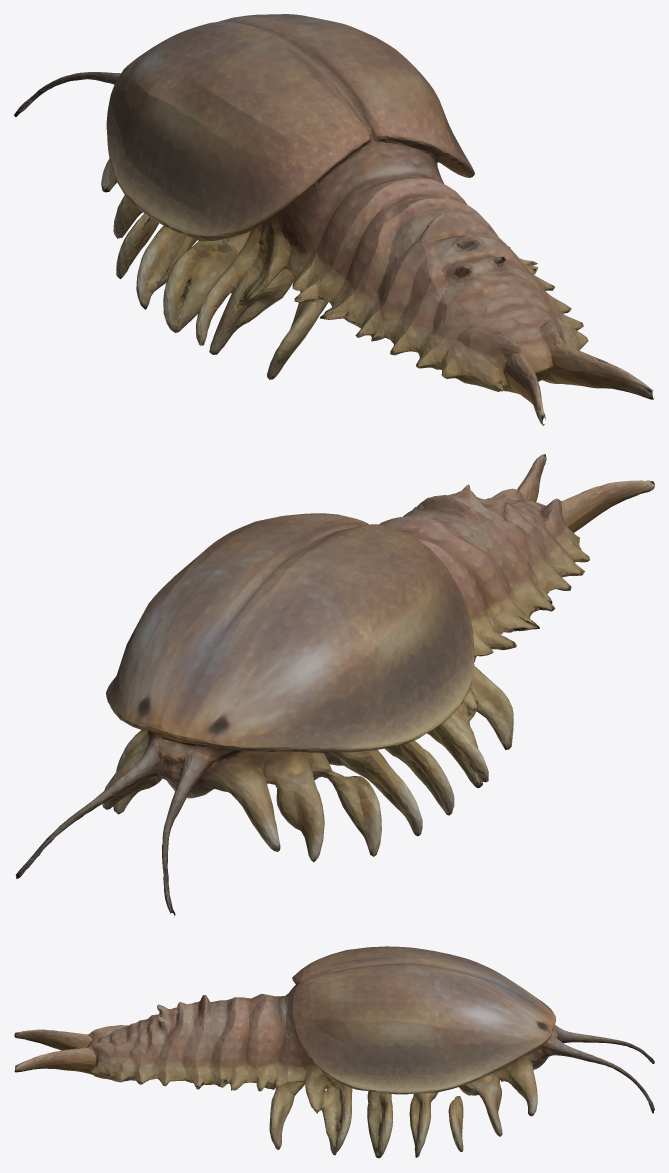
3 views of the same model, one above another, from view 1: azimuth 30°, elevation 25°; view 2: azimuth 150°, elevation 25°; view 3: azimuth 270°, elevation 25° (orthographic). The views are drawn at different scales.
Visible parts, largest first — view 1: world; view 2: world; view 3: world.
Part boxes in pixels (<box>): world: <box>14,14,654,425</box>; world: <box>16,454,654,915</box>; world: <box>14,946,654,1158</box>.
Bounding box in the file's own units: 0.3377 × 0.2674 × 1.
1 material, 1 textured.
